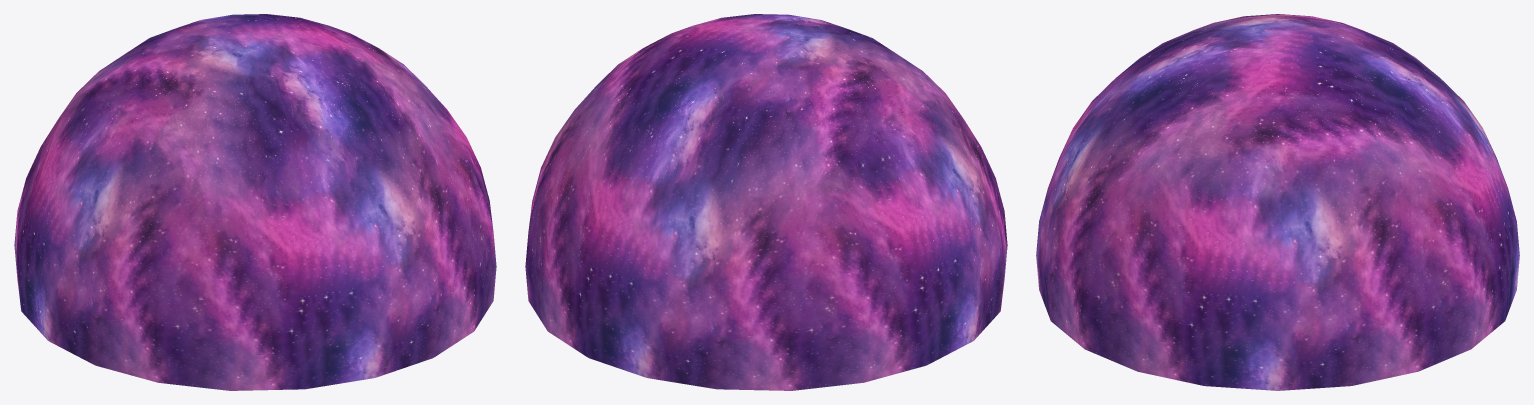
3 views of the same model, side by side, from view 1: azimuth 30°, elevation 25°; view 2: azimuth 150°, elevation 25°; view 3: azimuth 270°, elevation 25° (orthographic).
Visible parts, largest first — view 1: AS; view 2: AS; view 3: AS.
Boxes of the visible parts, box(x1,y1,x2,y2) form: AS: box(14, 14, 496, 390); AS: box(525, 14, 1007, 390); AS: box(1036, 14, 1519, 390).
Size of the model in its own units: 1.02 by 0.5882 by 1.02.
Materials: 3 (3 with a texture image).
